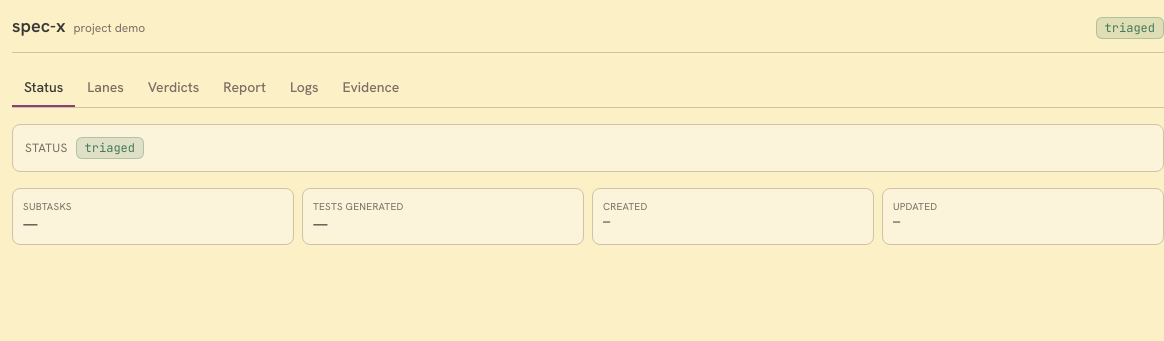
Test: <PFactoryTaskDetail> lanes tab › switches to lanes tab and renders the grid with unit status
The width and height of the screenshot is (1164, 341).
Click the tab with test id "tab-lanes" at (106, 88), box left=75, top=69, right=136, bottom=107
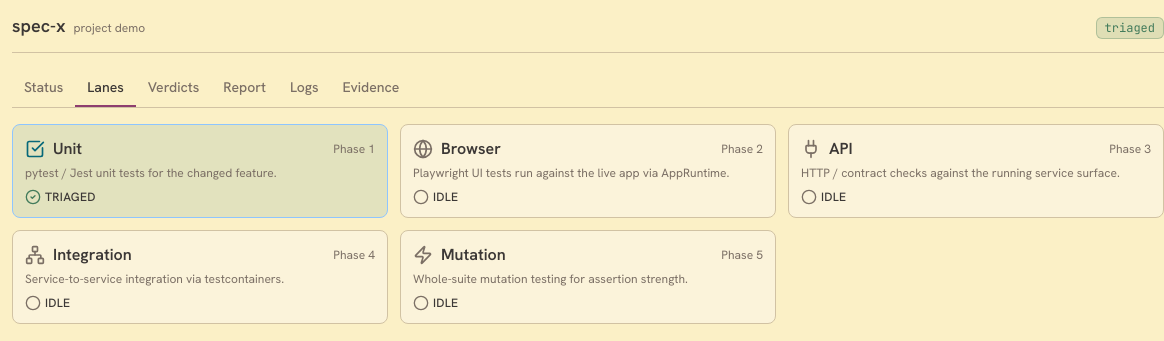
Result: the element with test id "lane-status-grid" is shown at left=12, top=124, right=1163, bottom=324
